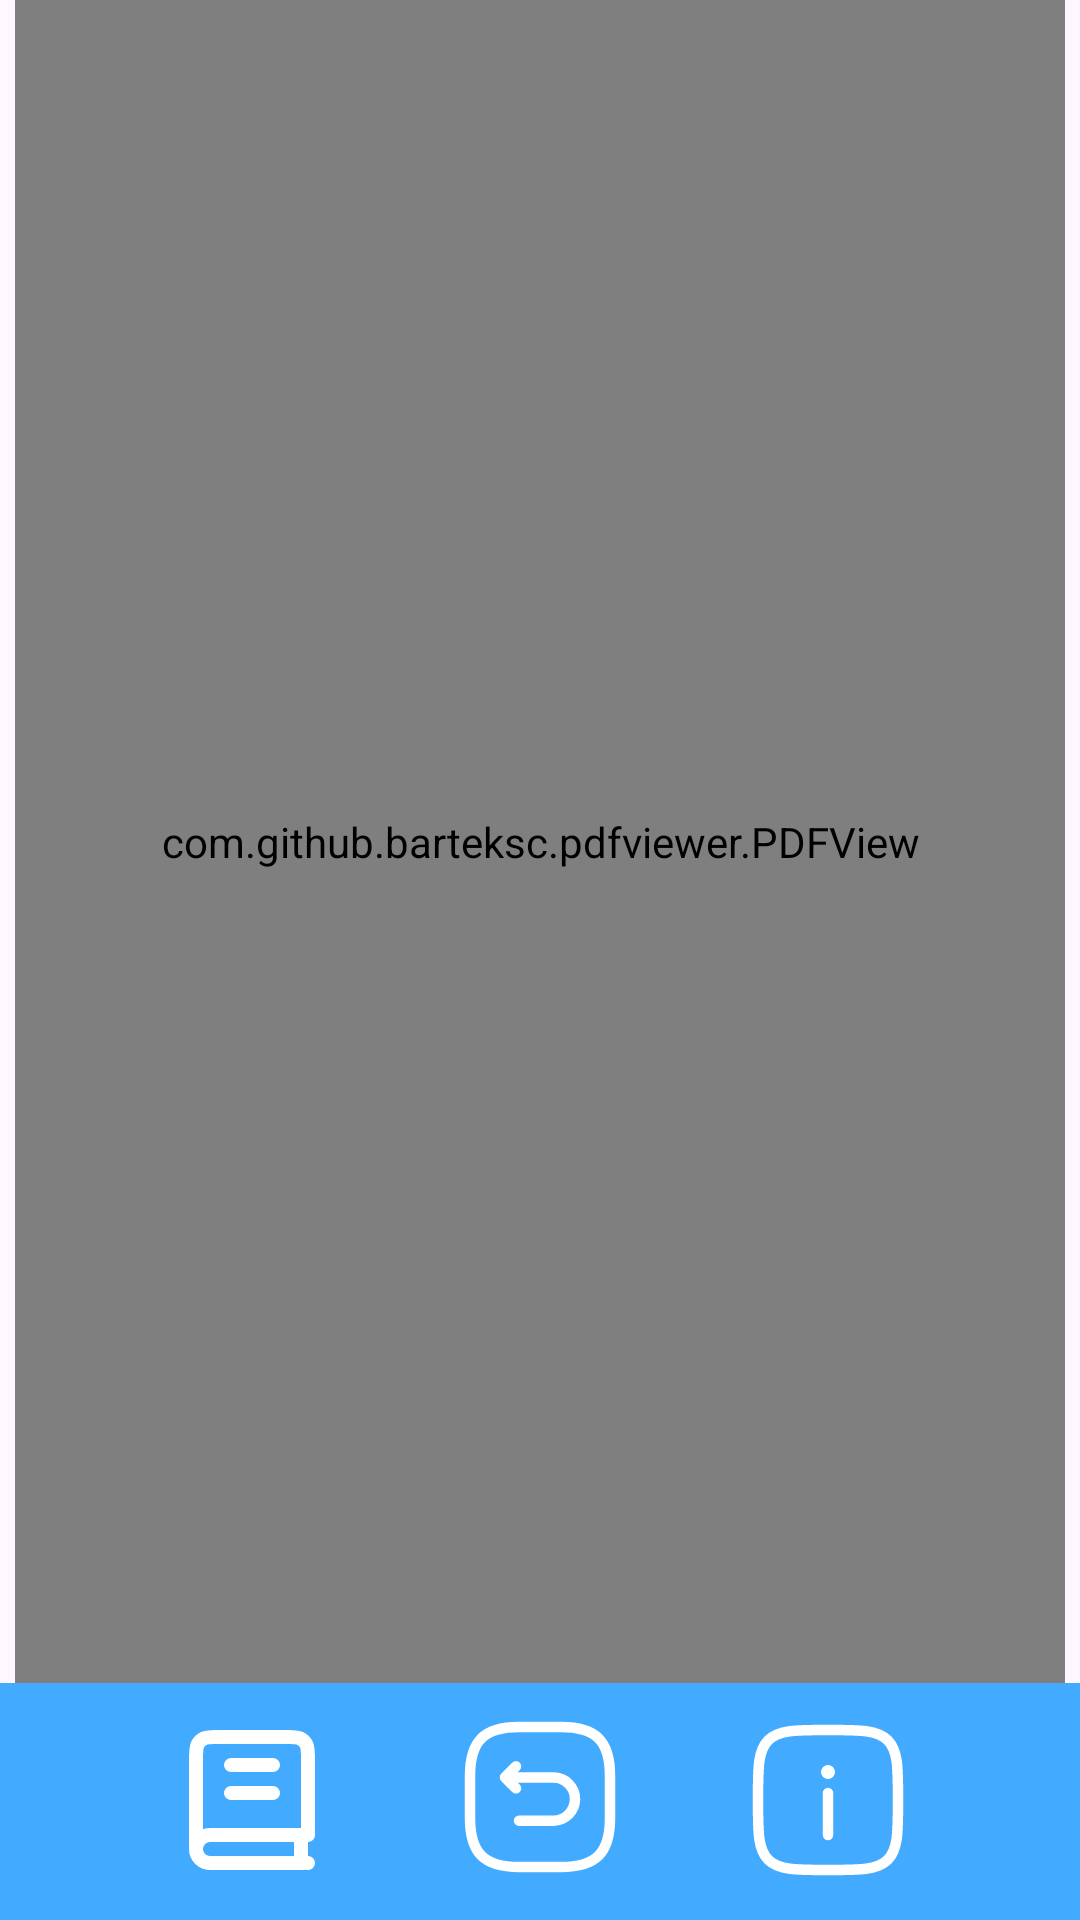

Point at icon controls on the screen. Image size 1080 x 1920, points as [x,y].
back square: [540,1797]
book: [252,1800]
info square: [828,1800]
